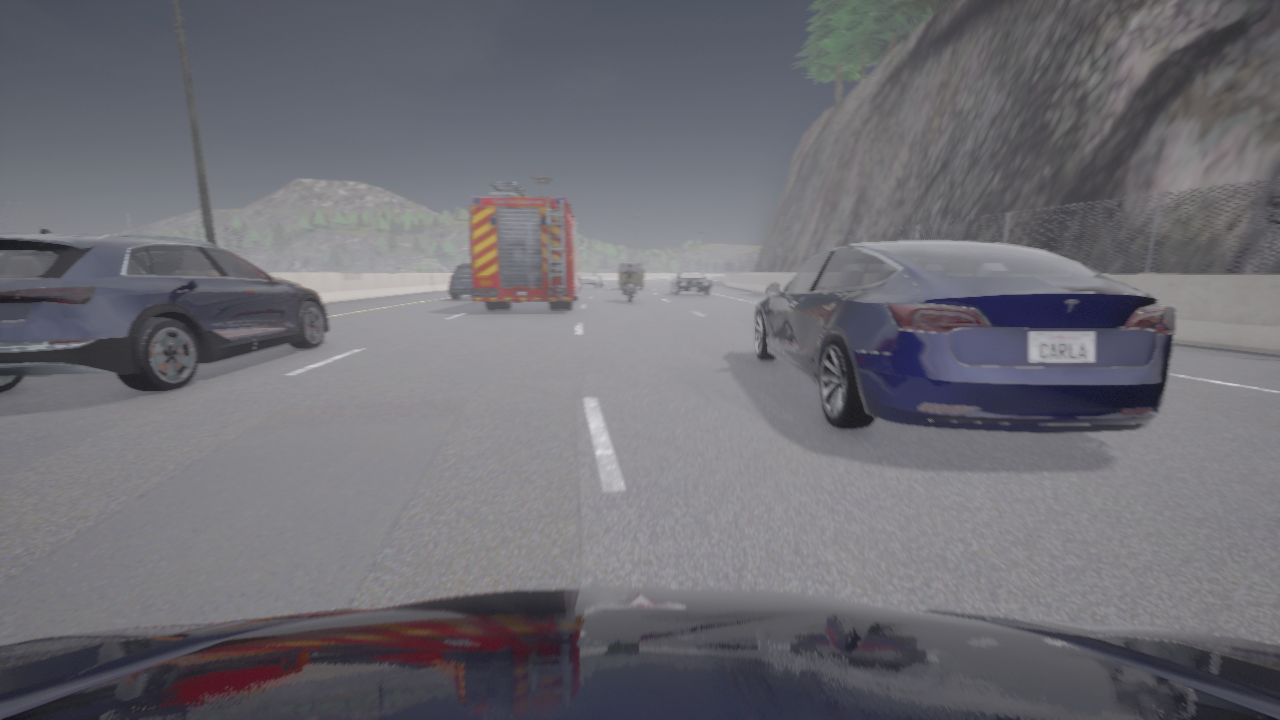cyclist: (0, 588, 1279, 719), (754, 241, 1175, 433), (0, 228, 328, 393), (469, 181, 584, 310), (669, 271, 710, 295), (449, 264, 472, 299), (618, 263, 644, 289), (578, 272, 601, 288), (625, 275, 636, 302)
